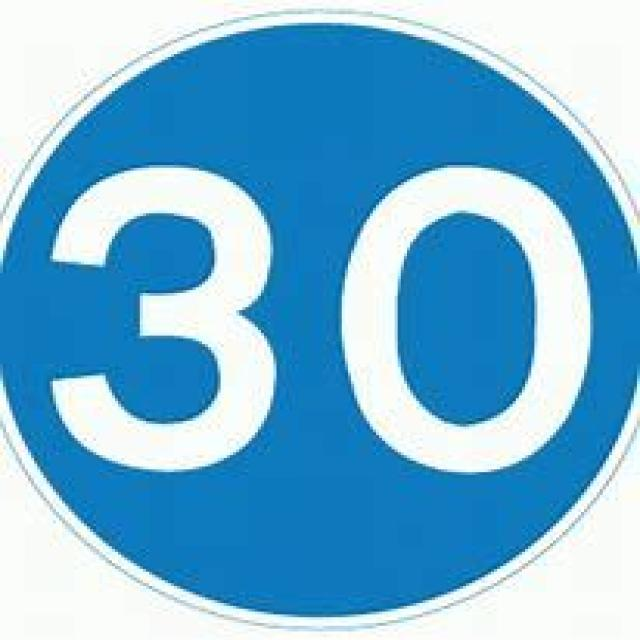compulsory_keep_right: (0, 6, 637, 637)
